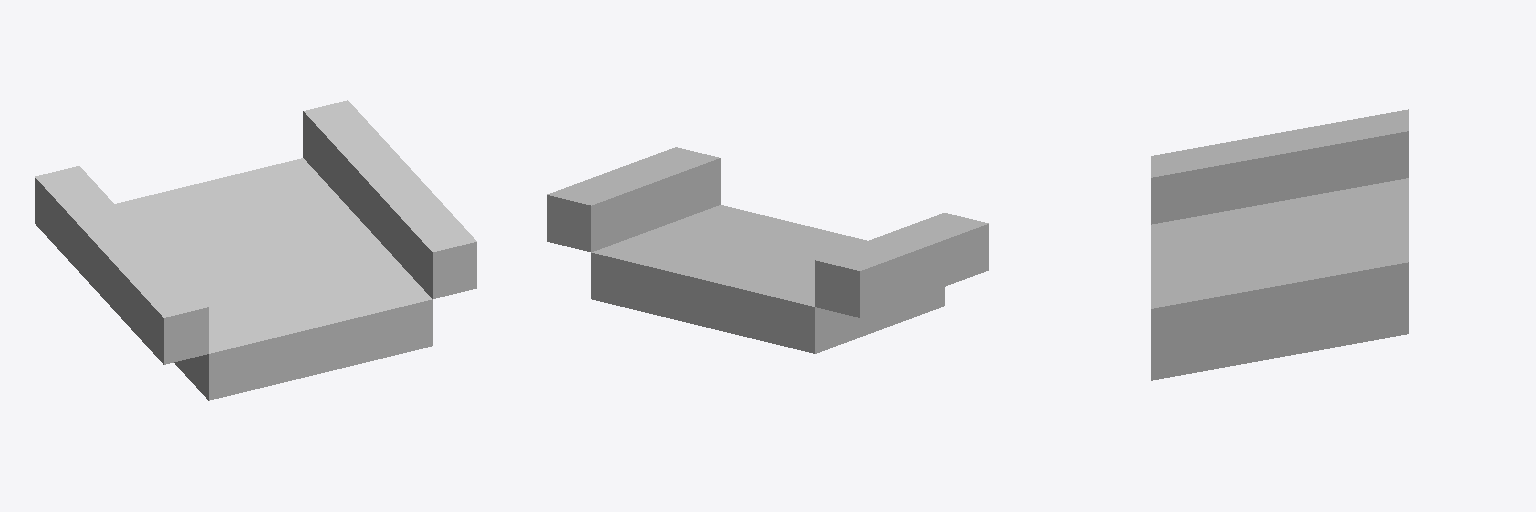
File: Road1Ramped.obj
3 views of the same model, side by side, from view 1: azimuth 30°, elevation 25°; view 2: azimuth 150°, elevation 25°; view 3: azimuth 270°, elevation 25° (orthographic).
Parts seen in each view (by area): view 1: ROAD1, BARRIER-1, BARRER-2; view 2: ROAD1, BARRER-2, BARRIER-1; view 3: ROAD1, BARRER-2, BARRIER-1.
Part boxes in pixels (x1,y1,x2,y2): ROAD1: (115,158,432,400); BARRIER-1: (35,166,208,364); BARRER-2: (303,100,476,298); ROAD1: (591,205,944,353); BARRER-2: (547,147,720,252); BARRIER-1: (815,213,988,317); ROAD1: (1151,178,1408,380); BARRER-2: (1151,240,1408,355); BARRIER-1: (1151,109,1408,224).
Size of the model in its own units: 7 by 3 by 5.